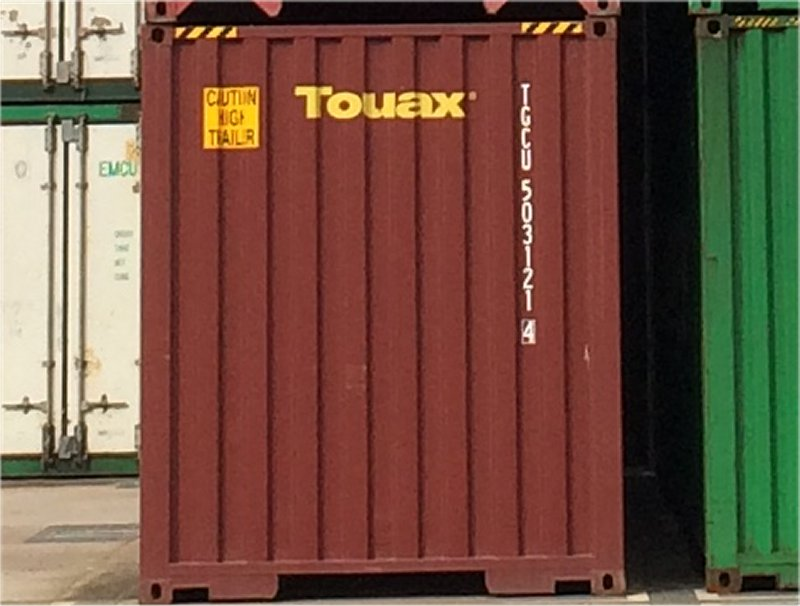container_no_door: (144, 21, 627, 599)
